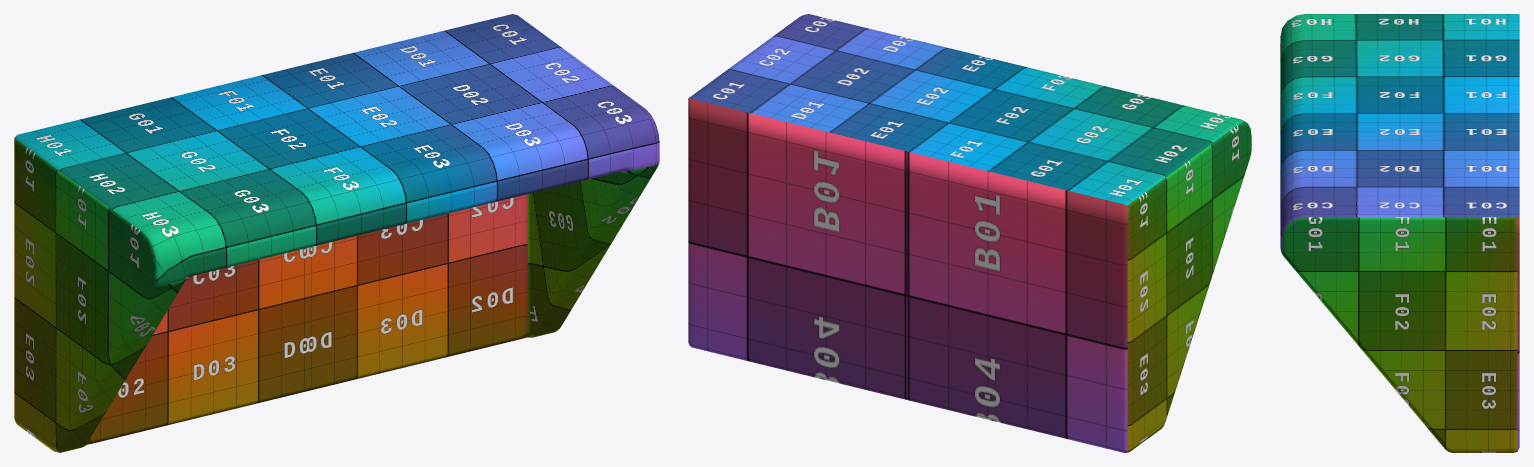
The model's file is Table3_high.fbx.
3 renders of one model, left to right at view 1: azimuth 30°, elevation 25°; view 2: azimuth 150°, elevation 25°; view 3: azimuth 270°, elevation 25°, orthographic. The views are drawn at different scales.
Visible parts, largest first — view 1: Table_low; view 2: Table_low; view 3: Table_low.
Part boxes in pixels (<box>): Table_low: <box>14,14,659,452</box>; Table_low: <box>688,14,1251,452</box>; Table_low: <box>1280,14,1519,452</box>.
Size of the model in its own units: 203 by 110 by 100.
